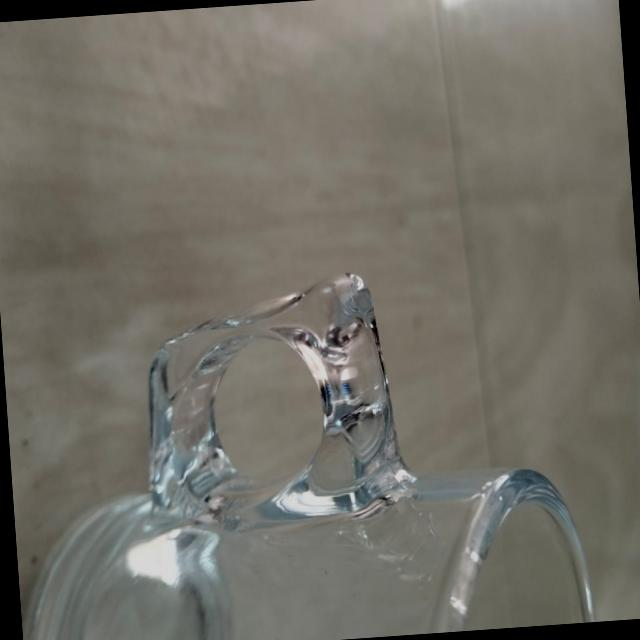glass-VX4N: (0, 259, 596, 640)
